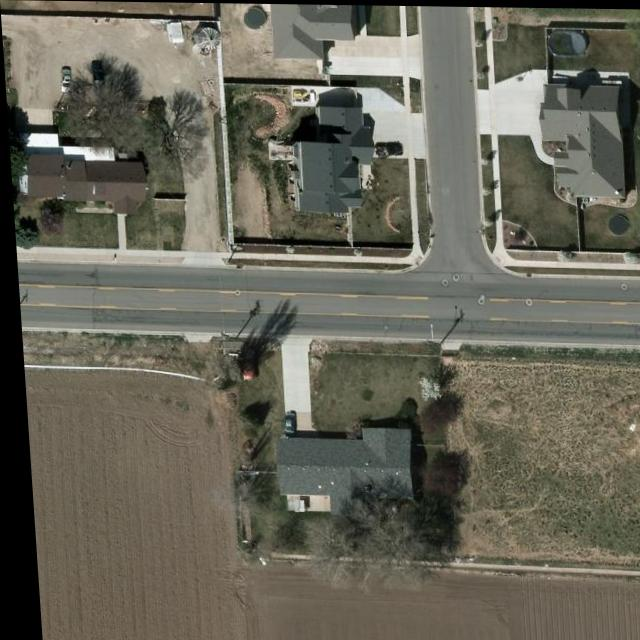vehicle: (234, 346, 255, 380), (372, 141, 403, 157), (91, 61, 105, 87), (278, 411, 290, 437), (59, 68, 71, 93)
